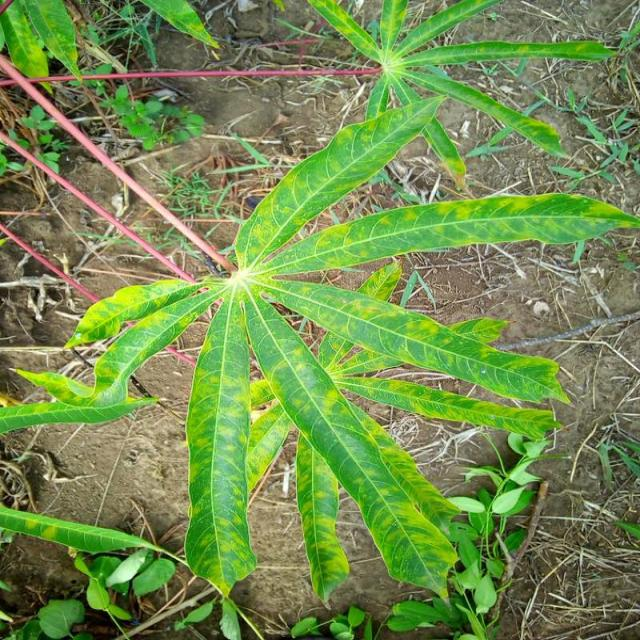cassava leaf: (0, 3, 638, 620), (232, 93, 449, 272), (183, 282, 258, 598)
